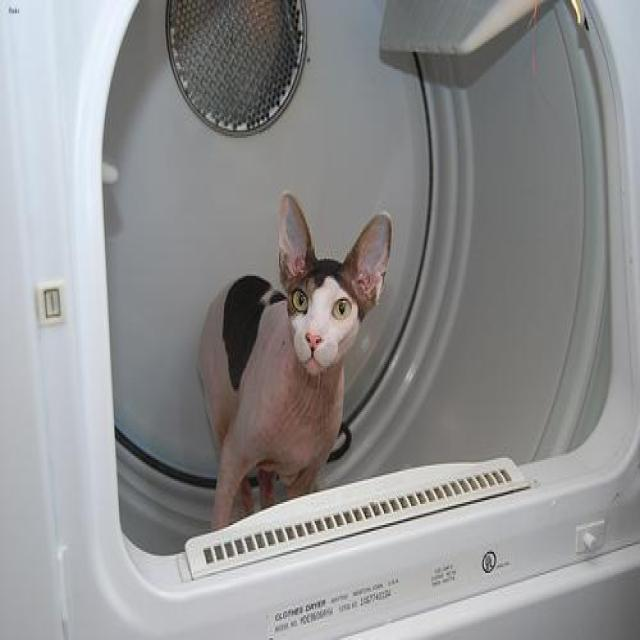cat: (196, 190, 393, 534)
